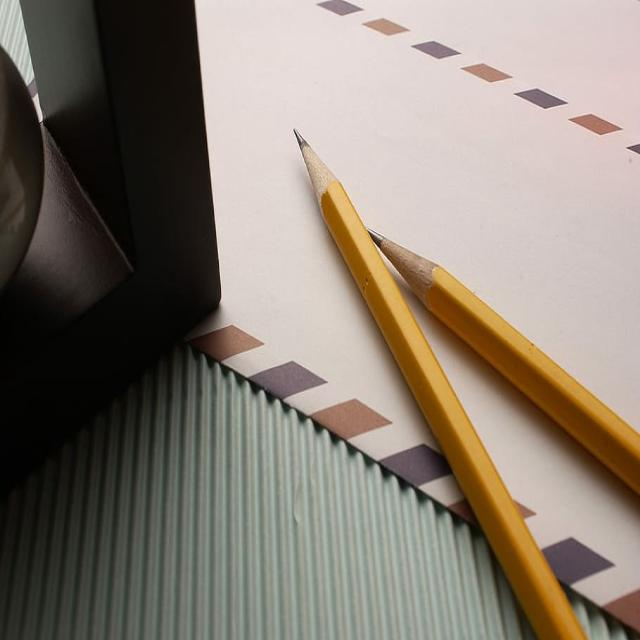pencil: (286, 116, 592, 637), (359, 219, 639, 504)
